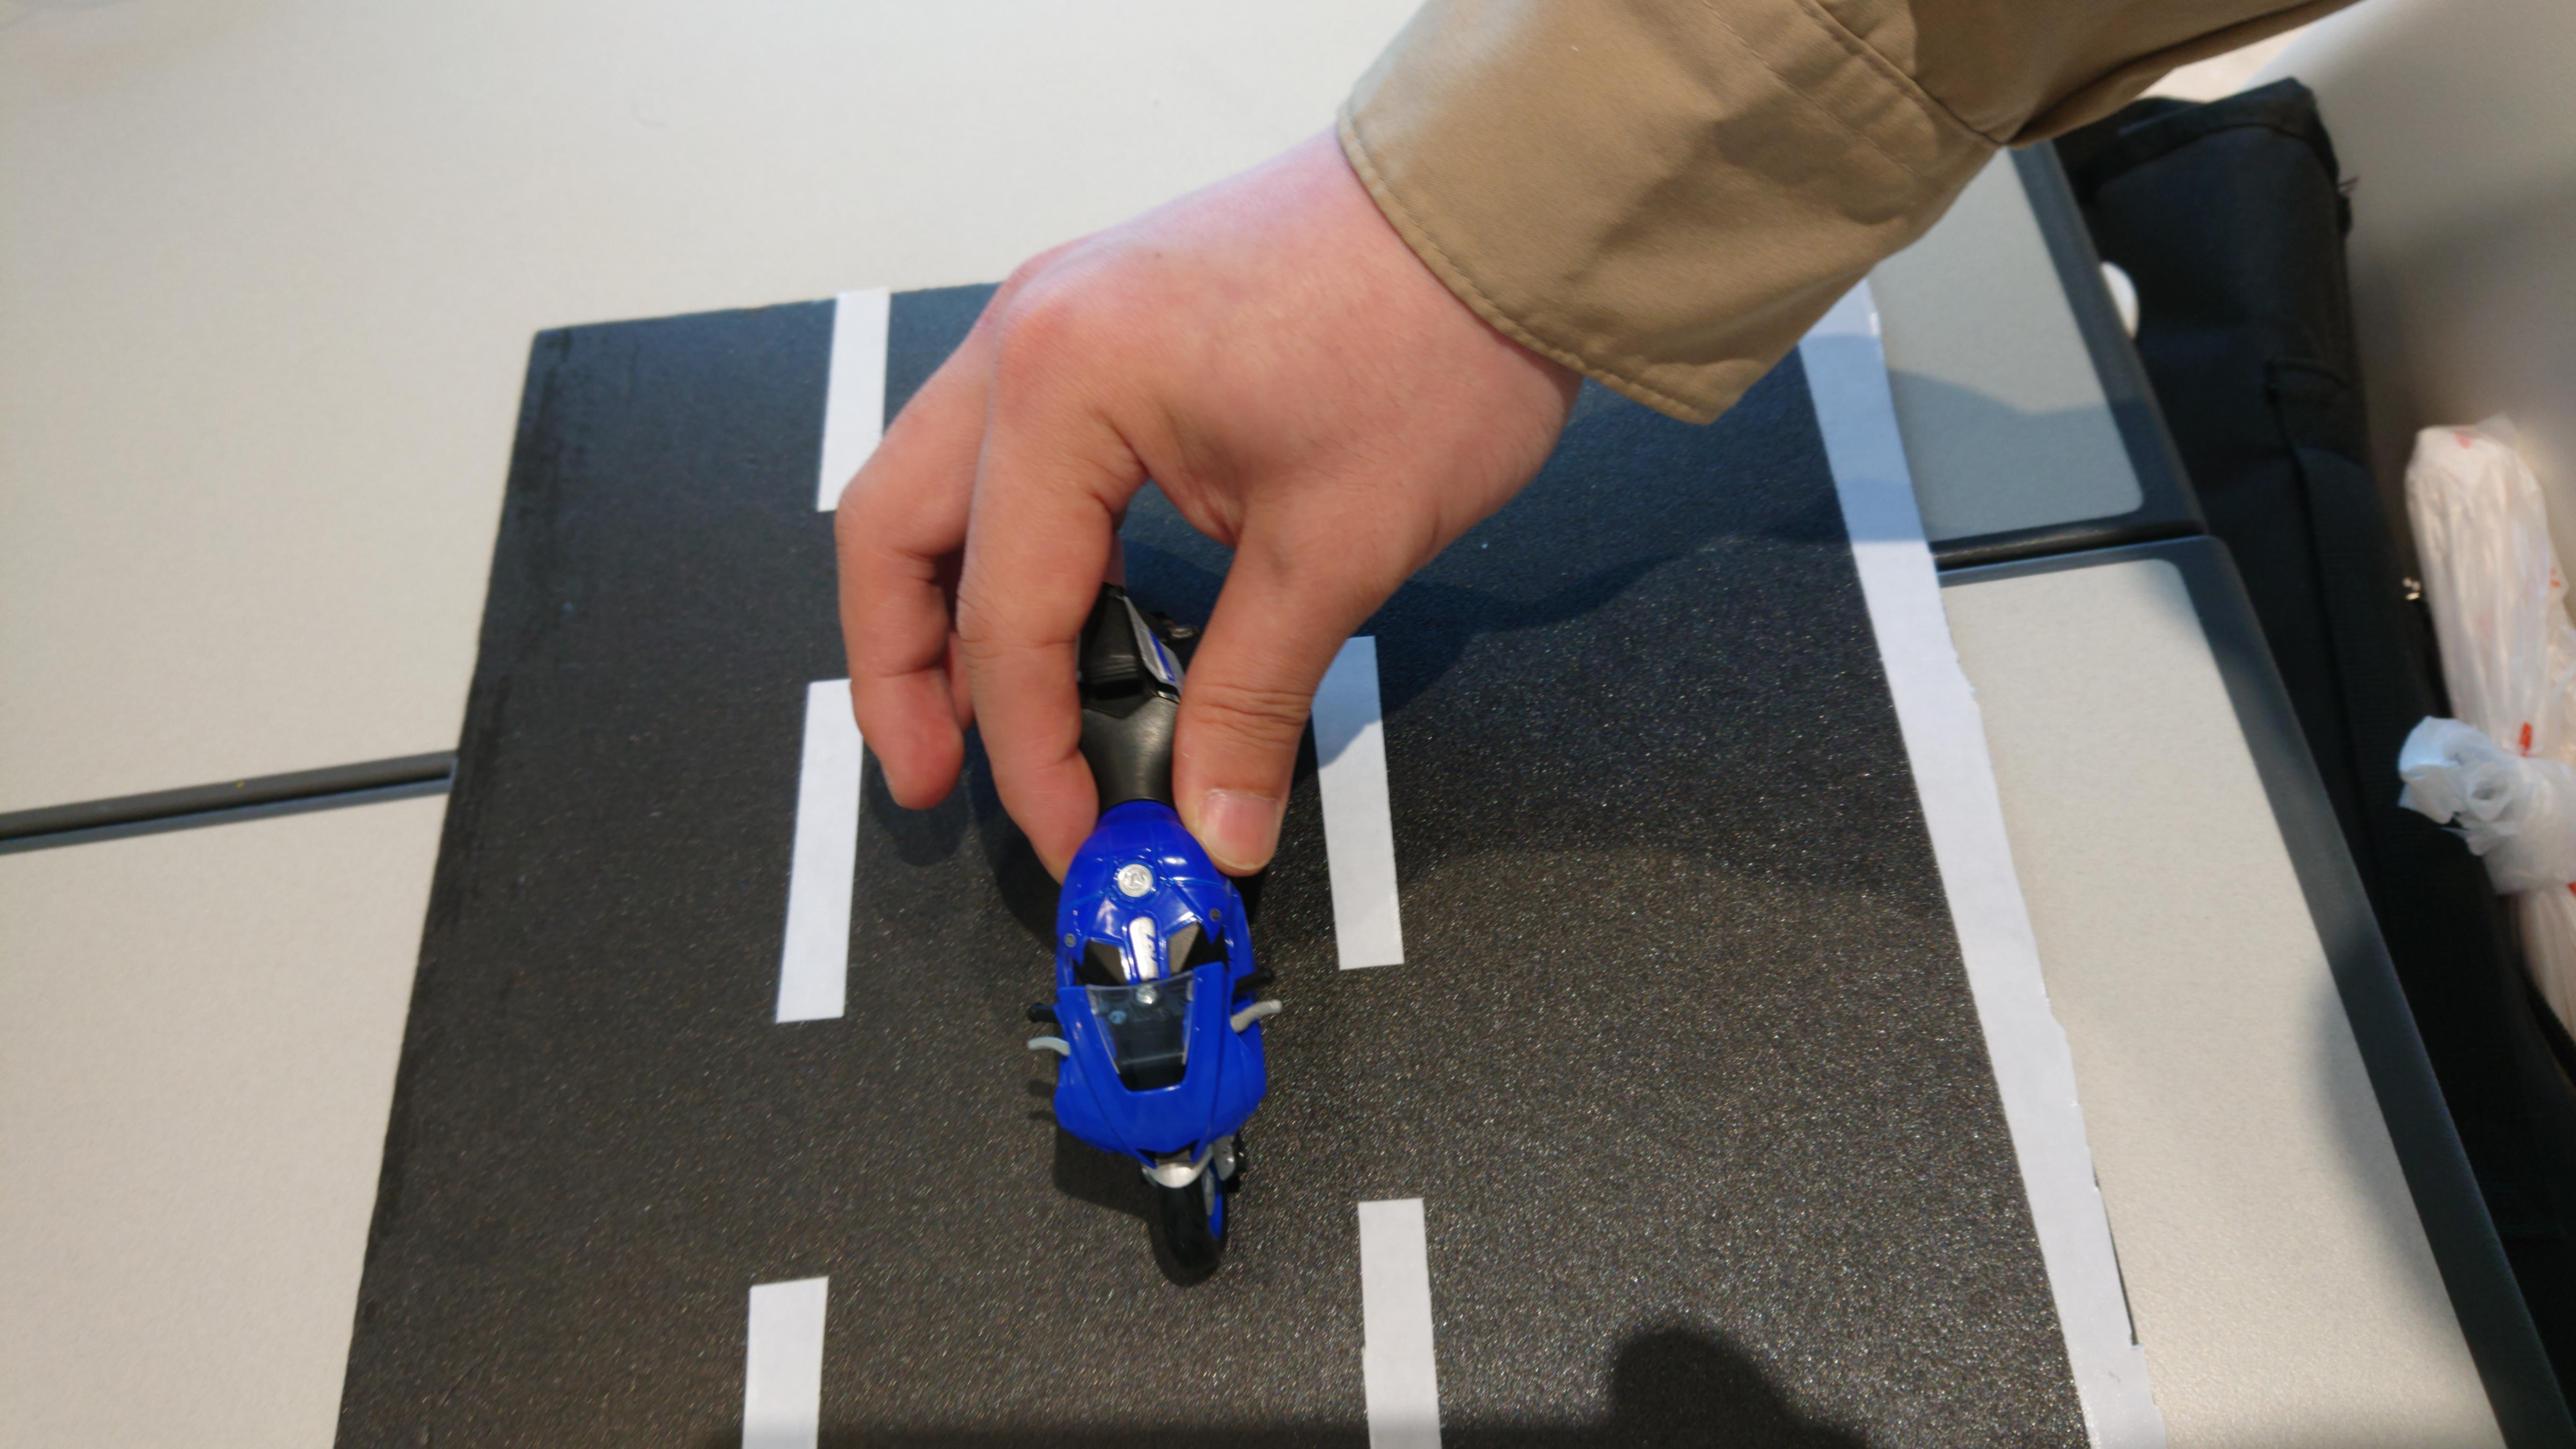Motorcycle: (1014, 579, 1290, 1300)
